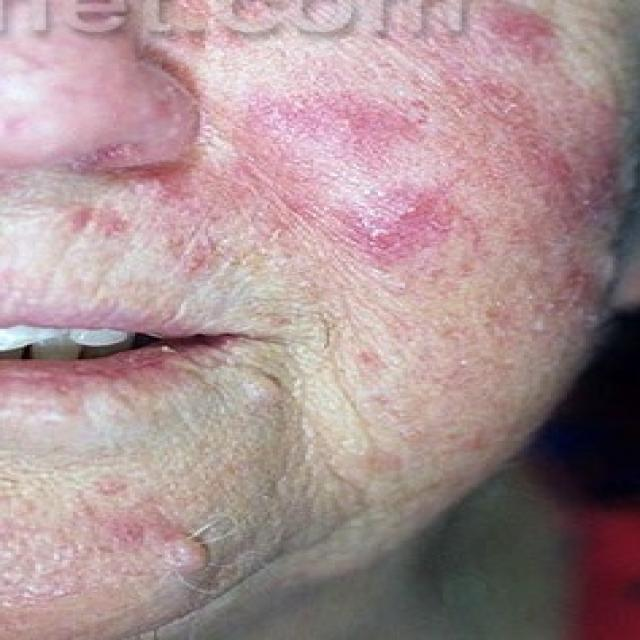Rosacea: (269, 91, 617, 253)
